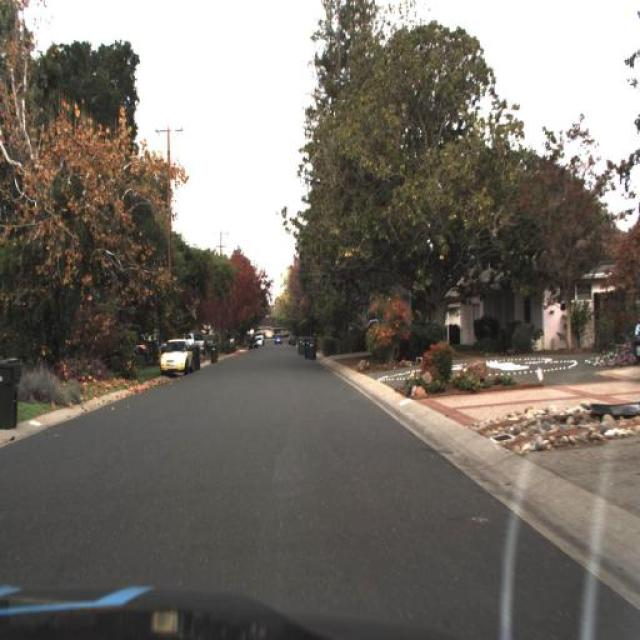car: (161, 330, 200, 374), (127, 325, 157, 356)
